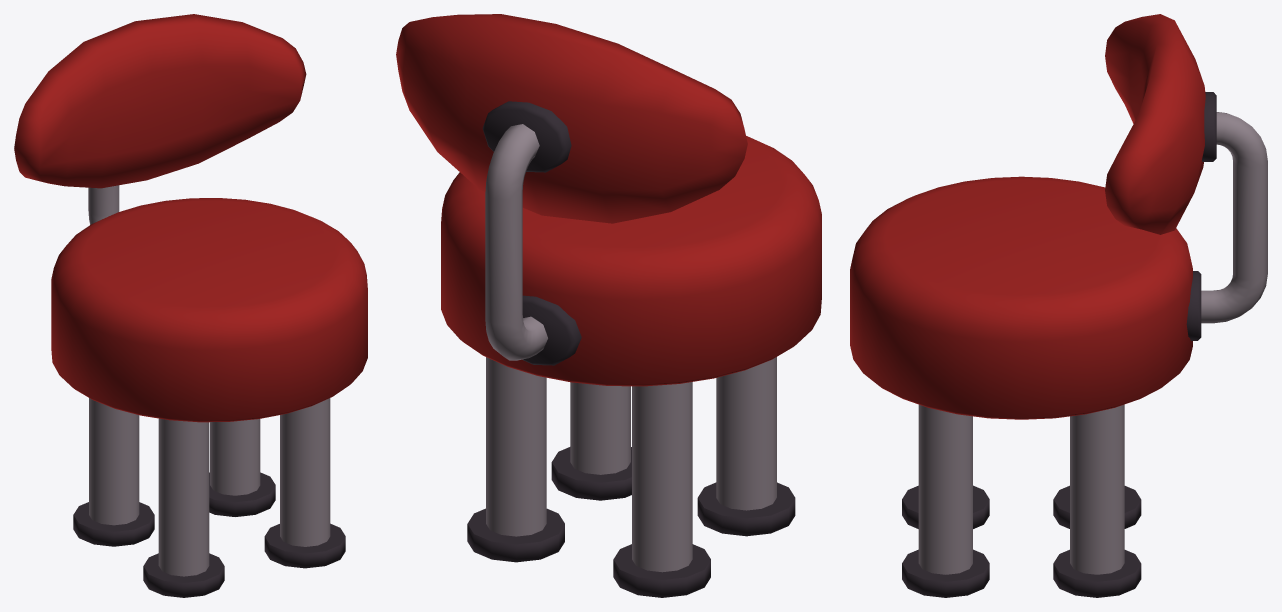
File: GB_045_046_047_chair.glb
3 renders of one model, left to right at view 1: azimuth 30°, elevation 25°; view 2: azimuth 150°, elevation 25°; view 3: azimuth 270°, elevation 25°, orthographic. The views are drawn at different scales.
Visible parts, largest first — view 1: Seat.001, Rest.001, Legs.001, Seat_back.001; view 2: Seat.001, Rest.001, Legs.001, Seat_back.001, ConnectionPieces.001; view 3: Seat.001, Legs.001, Rest.001, Seat_back.001, ConnectionPieces.001.
Part boxes in pixels (box(x1,y1,x2,y2)): Seat.001: box(51, 198, 367, 422); Rest.001: box(14, 14, 306, 188); Legs.001: box(73, 398, 345, 597); Seat_back.001: box(88, 185, 119, 224); Seat.001: box(441, 136, 821, 386); Rest.001: box(396, 14, 747, 223); Legs.001: box(467, 357, 795, 597); Seat_back.001: box(485, 124, 547, 360); ConnectionPieces.001: box(482, 101, 581, 365); Seat.001: box(850, 176, 1192, 419); Legs.001: box(902, 404, 1141, 597); Rest.001: box(1105, 14, 1205, 234); Seat_back.001: box(1201, 112, 1267, 323); ConnectionPieces.001: box(1186, 92, 1216, 340).
Bounding box in the file's own units: 0.7298 × 1.11 × 0.8354.
